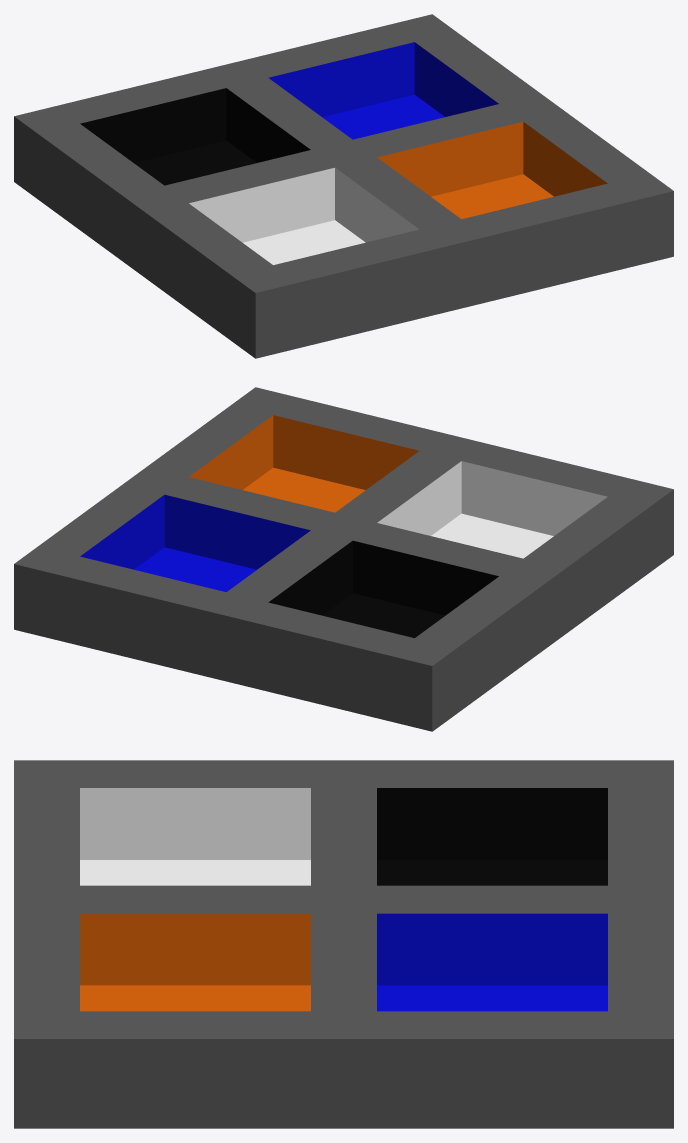
The model's file is irb120pe_CubeTray.dae.
3 views of the same model, one above another, from view 1: azimuth 30°, elevation 25°; view 2: azimuth 150°, elevation 25°; view 3: azimuth 270°, elevation 25° (orthographic). The views are drawn at different scales.
Parts seen in each view (by area): view 1: node; view 2: node; view 3: node.
Boxes of the visible parts, <box> form: node: <box>14,14,673,358</box>; node: <box>14,387,673,731</box>; node: <box>14,760,673,1128</box>.
Size of the model in its own units: 0.1 by 0.1 by 0.015.
